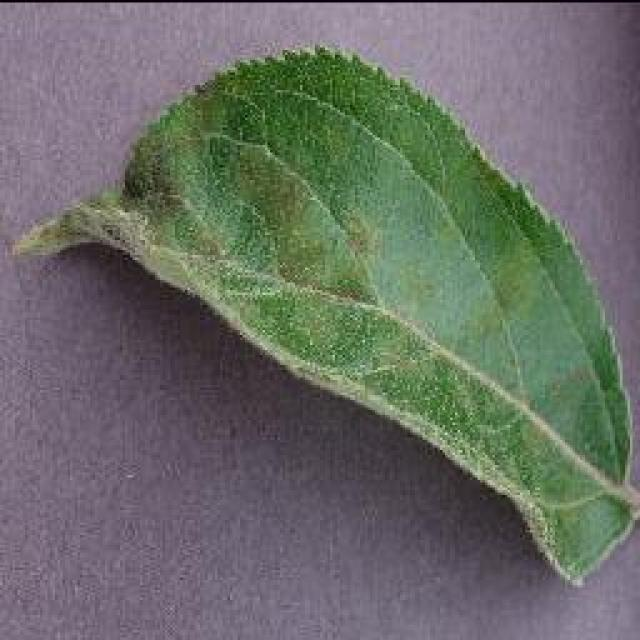apple scab disease: (10, 40, 638, 588)
